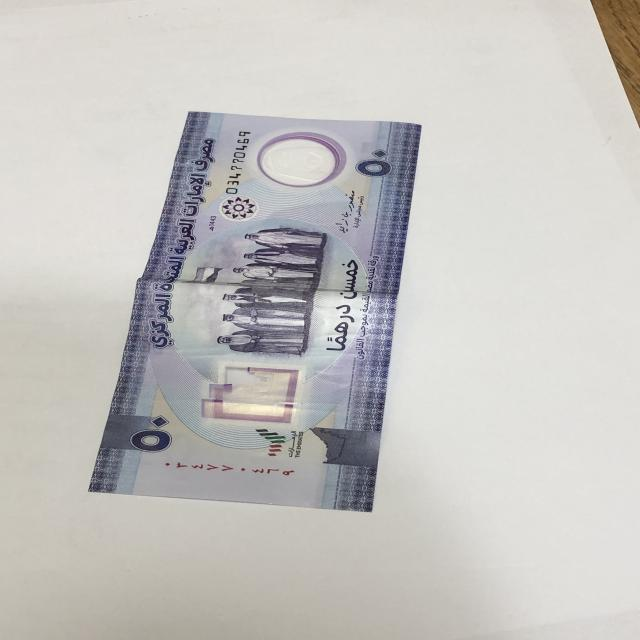50_AED: (91, 115, 426, 519)
